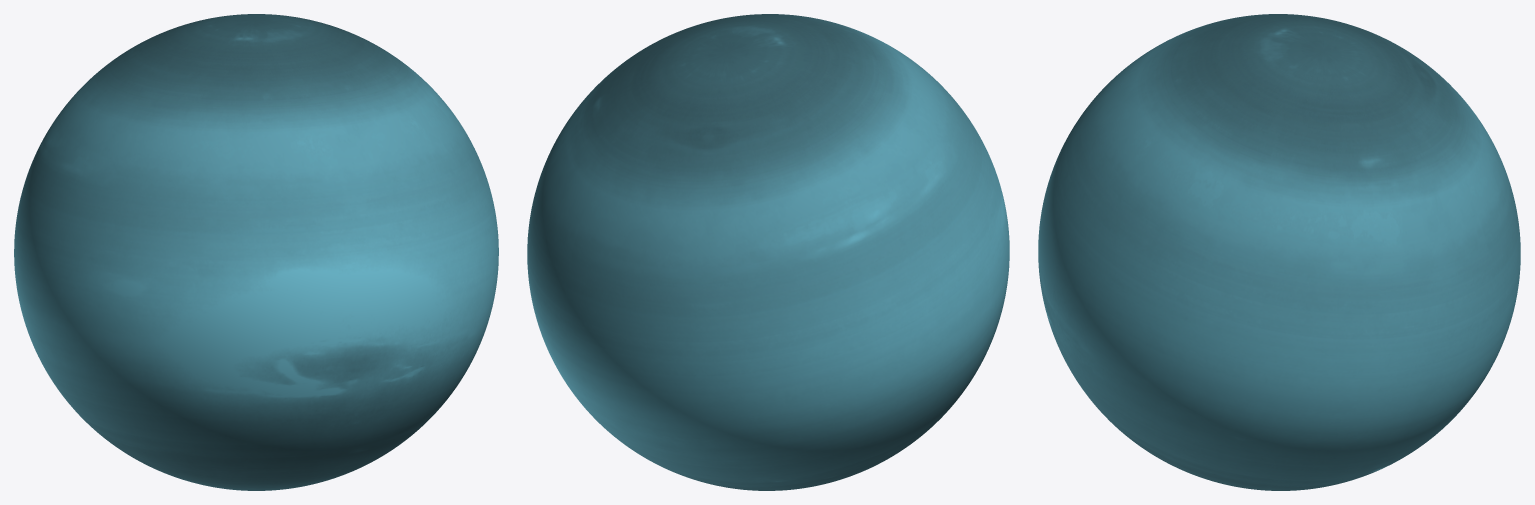
Rendered from neptune.glb.
3 renders of one model, left to right at view 1: azimuth 30°, elevation 25°; view 2: azimuth 150°, elevation 25°; view 3: azimuth 270°, elevation 25°, orthographic.
Parts seen in each view (by area): view 1: Neptune; view 2: Neptune; view 3: Neptune.
Boxes of the visible parts, bbox=[...] form: Neptune: bbox=[14, 14, 498, 490]; Neptune: bbox=[527, 14, 1009, 490]; Neptune: bbox=[1038, 14, 1520, 490].
Bounding box in the file's own units: 2.8 × 2.75 × 2.8.
1 material, 1 textured.
